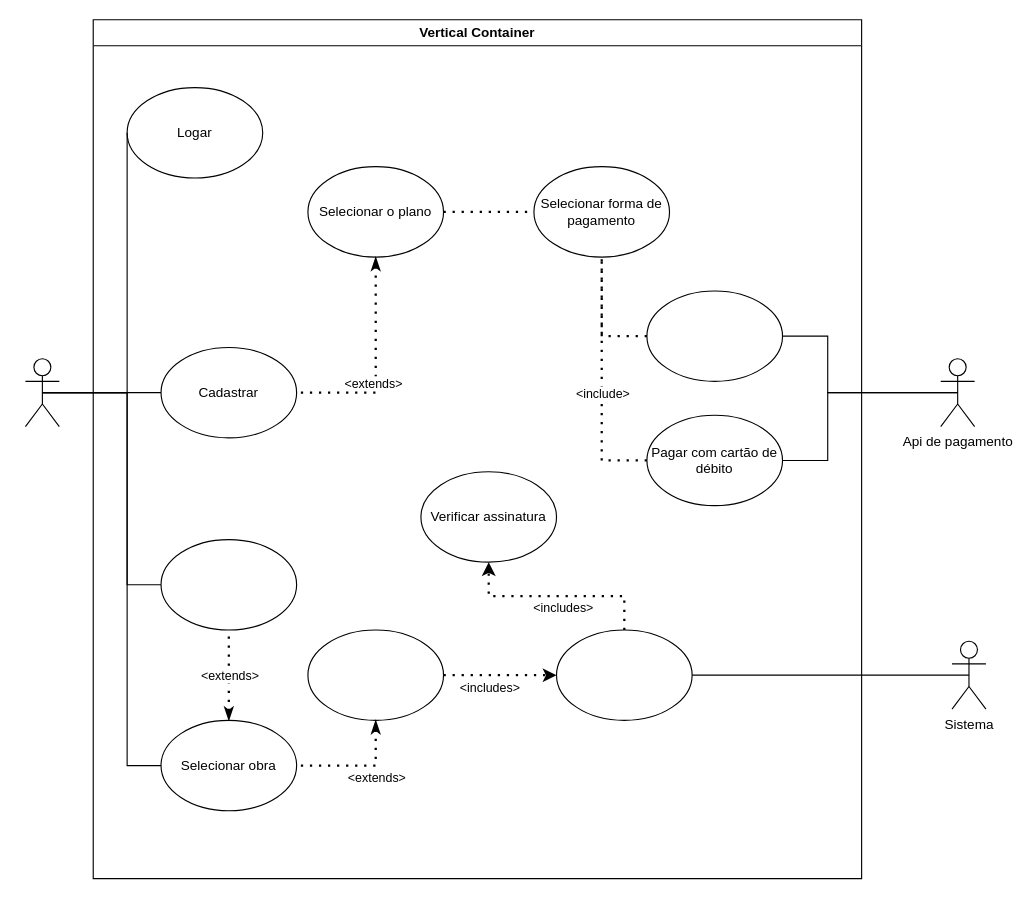
The diagram is 1032 pixels wide and 898 high, and some of its shapes have lost their labels. Each missing label, with the centre of its shape:
Exibir anúncios: pixel 623 674
Ler obra: pixel 375 674
Pagar com cartão de crédito: pixel 714 335
Usuário: pixel 41 392
Visualizar biblioteca: pixel 228 584
